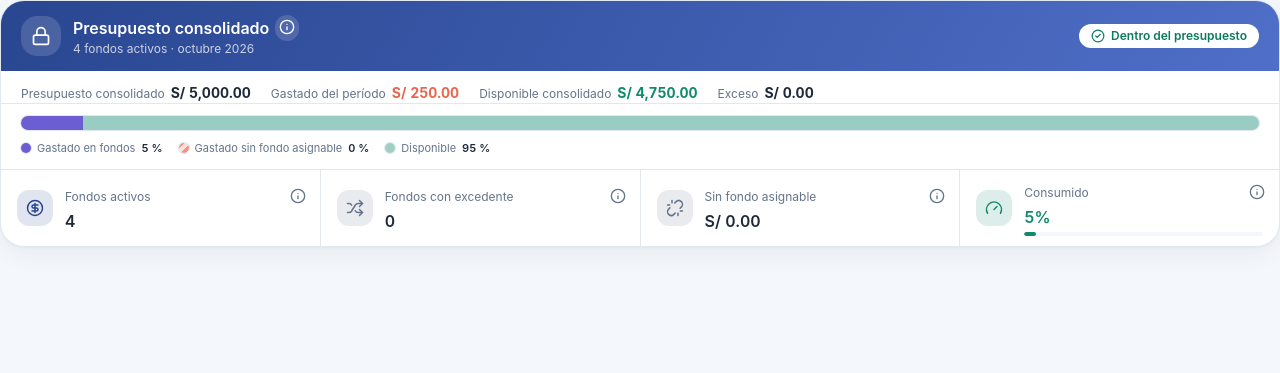
Test: PresupuestoConsolidado › el icono de información del encabezado explica presupuesto, gastado, disponible y consumido
Click the button named "Información: Cómo se calcula" at (287, 27), box [275, 15, 299, 39]
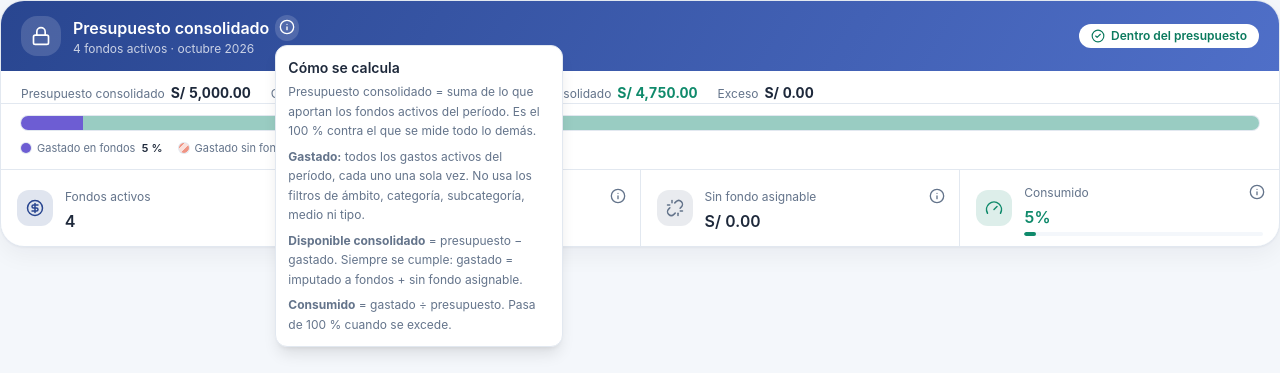
expect the tooltip shows "fondos activos": met, box [288, 84, 540, 138]
expect the tooltip shows "Gastado": met, box [288, 148, 341, 164]
expect the tooltip shows "Disponible consolidado": met, box [288, 232, 425, 248]
